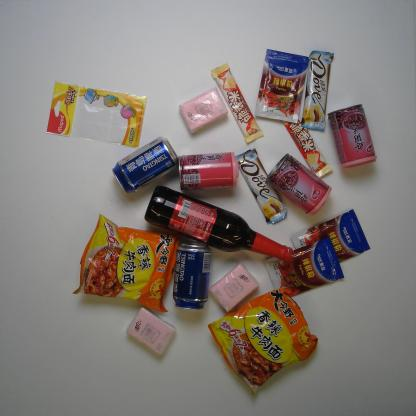Alcohol: (142, 183, 294, 264), (110, 136, 179, 194), (171, 239, 214, 312)
Canned Food: (263, 152, 333, 216), (326, 102, 378, 171), (178, 149, 242, 192)
Chocolate: (209, 61, 264, 145), (233, 147, 289, 226), (278, 113, 334, 181), (300, 50, 336, 132)
Instant Noodles: (206, 286, 320, 400), (71, 211, 181, 315)
Seasoner: (262, 236, 345, 301), (289, 207, 371, 267), (253, 48, 310, 124)
Stationery: (44, 79, 148, 150)
Tissue: (123, 304, 178, 360), (208, 262, 261, 316), (178, 85, 230, 135)
